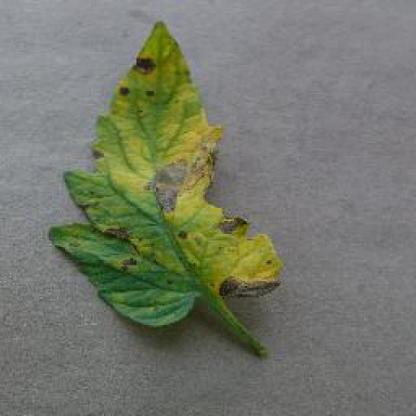Tomato_Blight: (48, 21, 282, 327)
